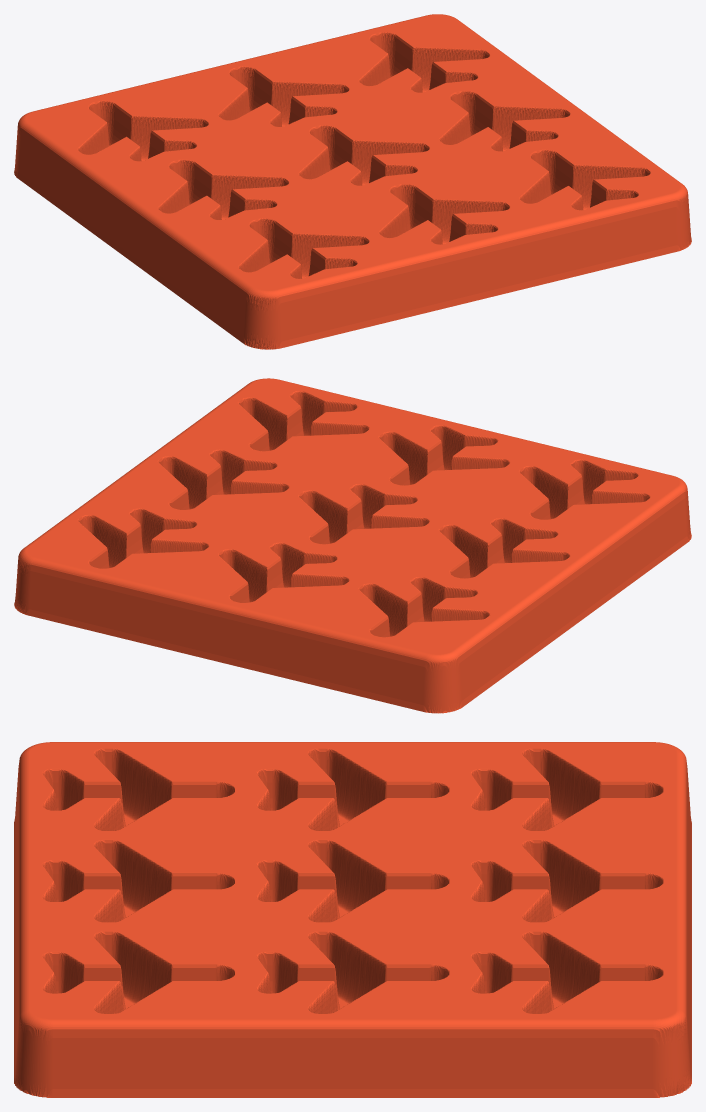
The model's file is mold.glb.
3 renders of one model, top to bottom at view 1: azimuth 30°, elevation 25°; view 2: azimuth 150°, elevation 25°; view 3: azimuth 270°, elevation 25°, orthographic. The views are drawn at different scales.
Parts seen in each view (by area): view 1: geometry_0; view 2: geometry_0; view 3: geometry_0.
Boxes of the visible parts, x1,y1,x2,y2 form: geometry_0: (14,14,691,349); geometry_0: (14,378,691,713); geometry_0: (14,742,691,1097).
Size of the model in its own units: 0.1595 by 0.0185 by 0.1579.
